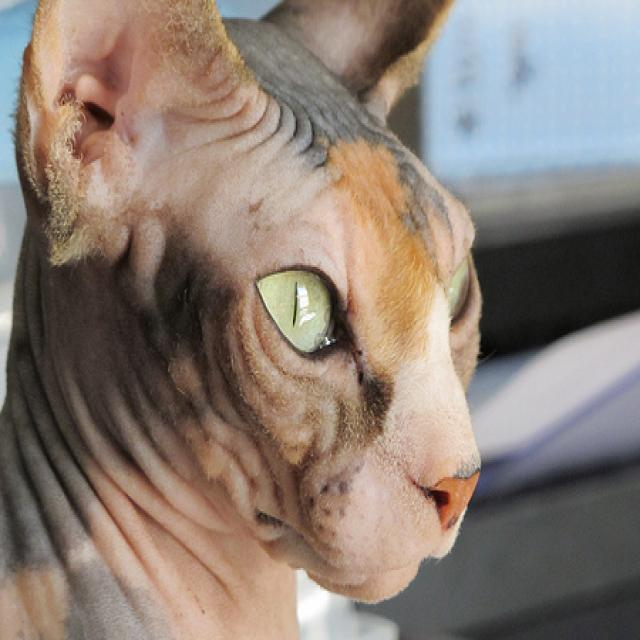Sphynx: (0, 0, 491, 640)
